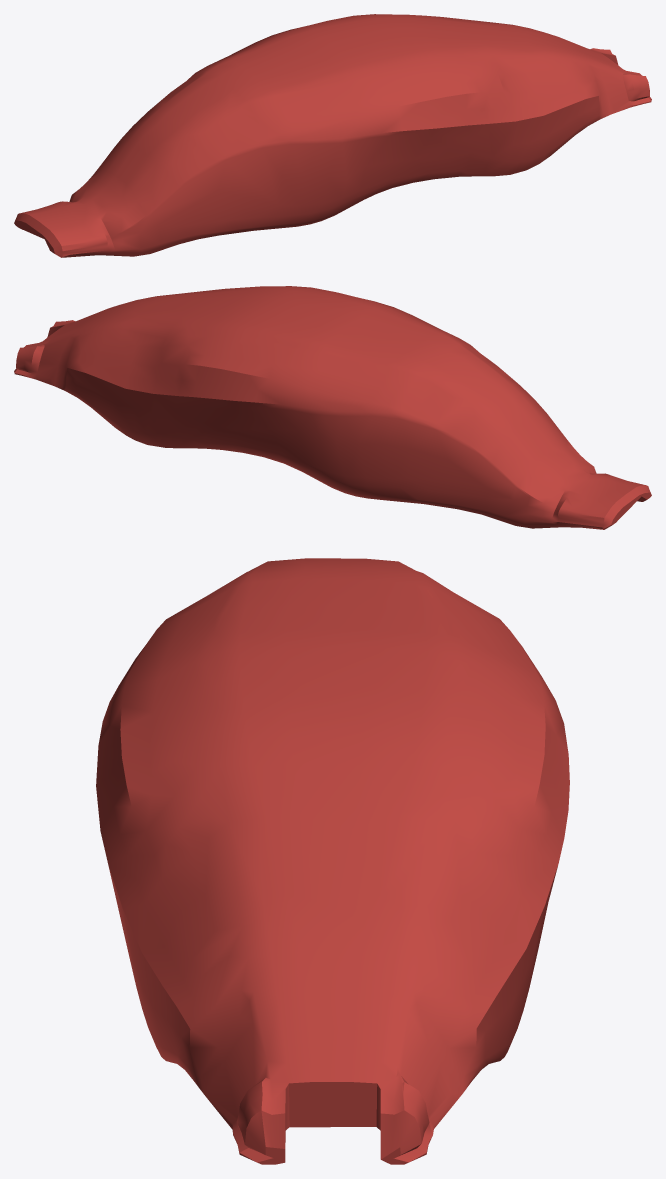
Rendered from sports_tourer_4_lod2.glb.
3 views of the same model, one above another, from view 1: azimuth 30°, elevation 25°; view 2: azimuth 150°, elevation 25°; view 3: azimuth 270°, elevation 25° (orthographic). The views are drawn at different scales.
Visible parts, largest first — view 1: sports_tourer_4_lod2; view 2: sports_tourer_4_lod2; view 3: sports_tourer_4_lod2.
Part boxes in pixels (x1=…): sports_tourer_4_lod2: x1=14, y1=14, x2=651, y2=257; sports_tourer_4_lod2: x1=14, y1=286, x2=651, y2=529; sports_tourer_4_lod2: x1=96, y1=558, x2=569, y2=1164.
Bounding box in the file's own units: 1.29 × 0.2803 × 0.4407.
